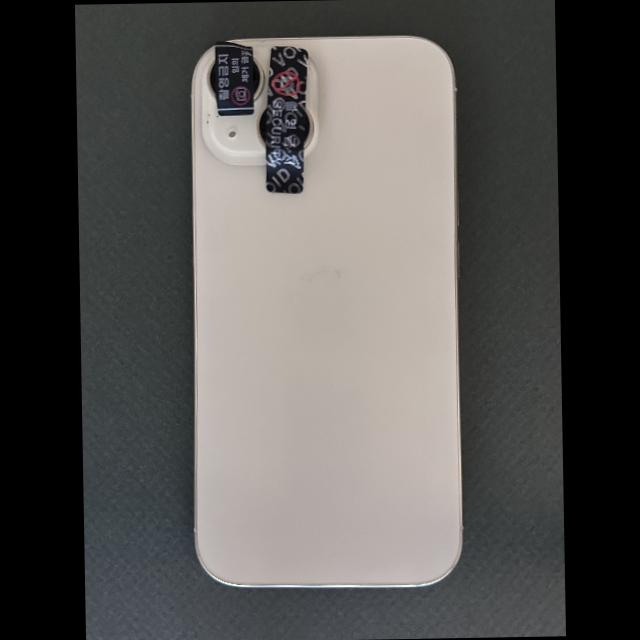lens: (256, 104, 267, 148), (254, 58, 263, 99)
phone: (191, 34, 464, 588)
sticker: (265, 45, 308, 194), (214, 40, 255, 117)
